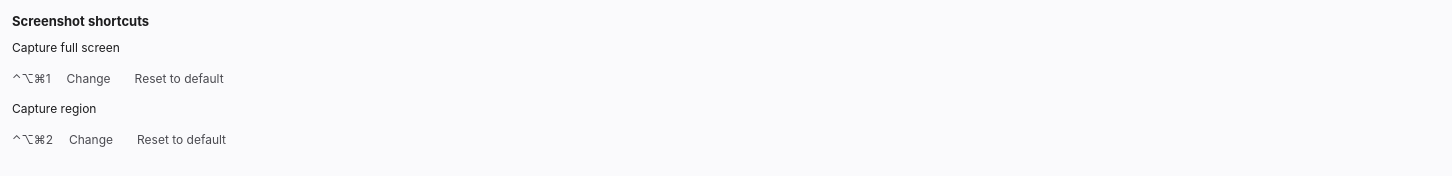
the screenshot shortcuts section › restores the old combination and resumes the shortcuts when Escape cancels
Click the button with aria-label "Change Capture region shortcut, currently ⌃⌥⌘2" at (91, 140), box [61, 126, 121, 154]
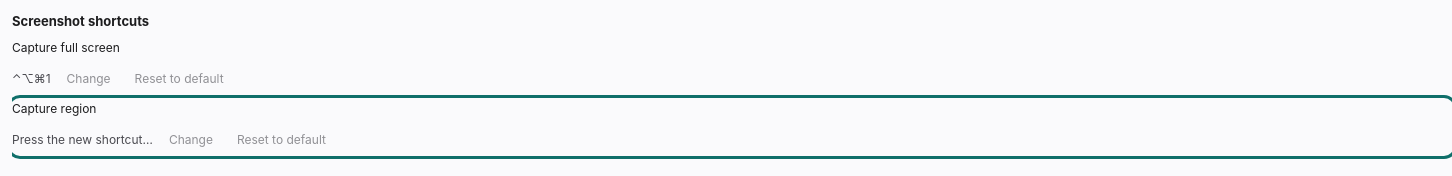
Check: the text "Press the new shortcut…" is shown, box [12, 131, 153, 148]
Press Escape
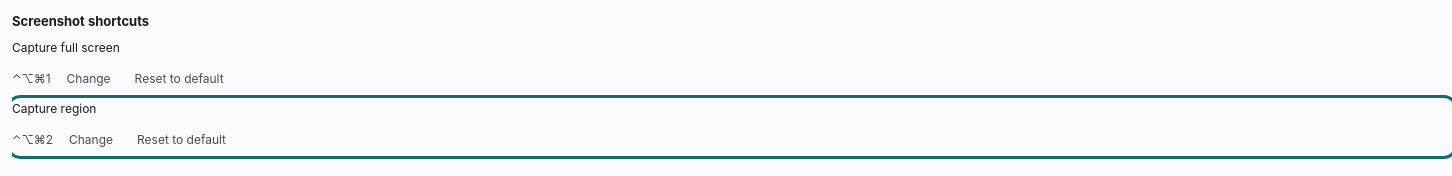
Check: the text "⌃⌥⌘2" is shown, box [12, 131, 53, 148]
Check: the text "Press the new shortcut…" is gone
